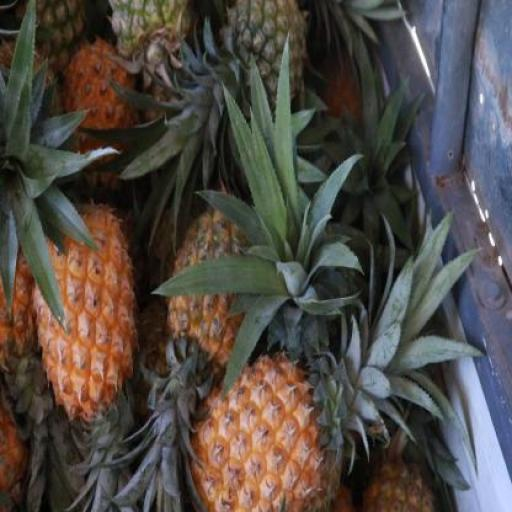Pineapple - v8 v1: (30, 191, 142, 417), (184, 348, 326, 511)
